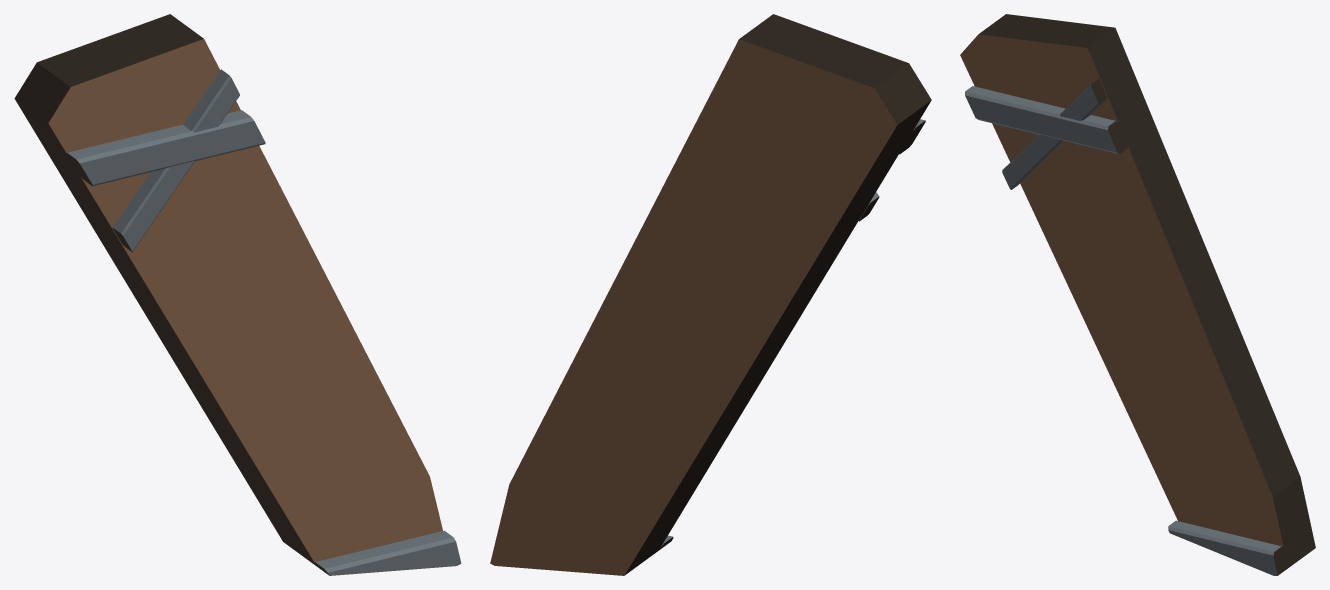
The model's file is SM_DoorShard_03_58.fbx.
3 renders of one model, left to right at view 1: azimuth 30°, elevation 25°; view 2: azimuth 150°, elevation 25°; view 3: azimuth 330°, elevation 25°, orthographic. The views are drawn at different scales.
Visible parts, largest first — view 1: SM_DoorShard_03_58; view 2: SM_DoorShard_03_58; view 3: SM_DoorShard_03_58.
Boxes of the visible parts, x1,y1,x2,y2 form: SM_DoorShard_03_58: [14, 14, 461, 575]; SM_DoorShard_03_58: [490, 14, 931, 575]; SM_DoorShard_03_58: [960, 14, 1315, 575].
Bounding box in the file's own units: 109 × 22 × 150.
